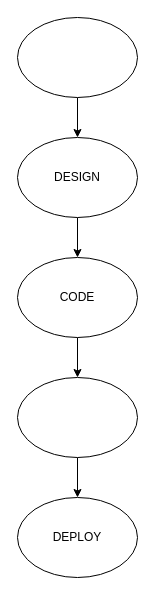
Some shapes in this 155 by 595 pixel diagram are drawn without their labels. The box of each missing label's shape, as (x1, y1, x2, y2) in pixels:
PLAN: (16, 16, 138, 98)
TEST: (16, 376, 138, 458)
